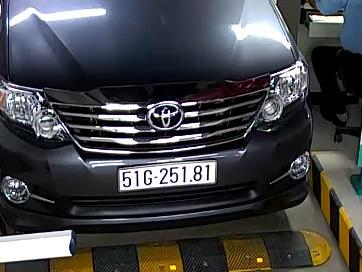number: (118, 162, 217, 191)
